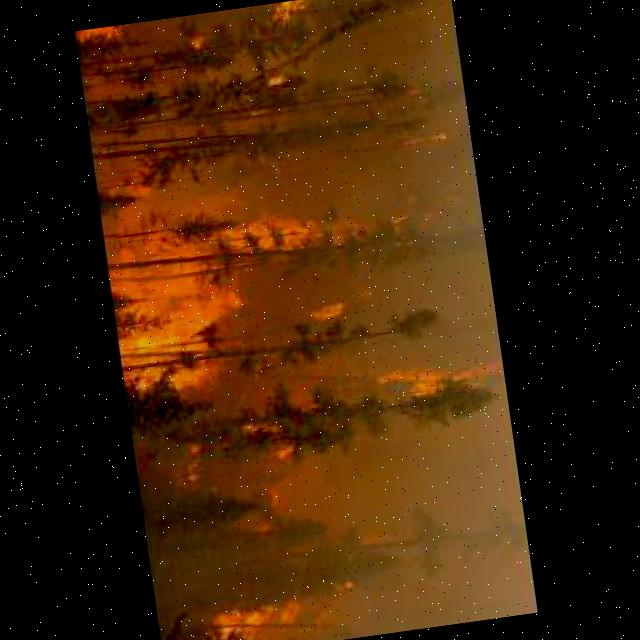fire: (98, 205, 258, 406), (370, 346, 510, 406), (220, 206, 349, 266), (206, 590, 336, 640), (69, 24, 127, 51)
